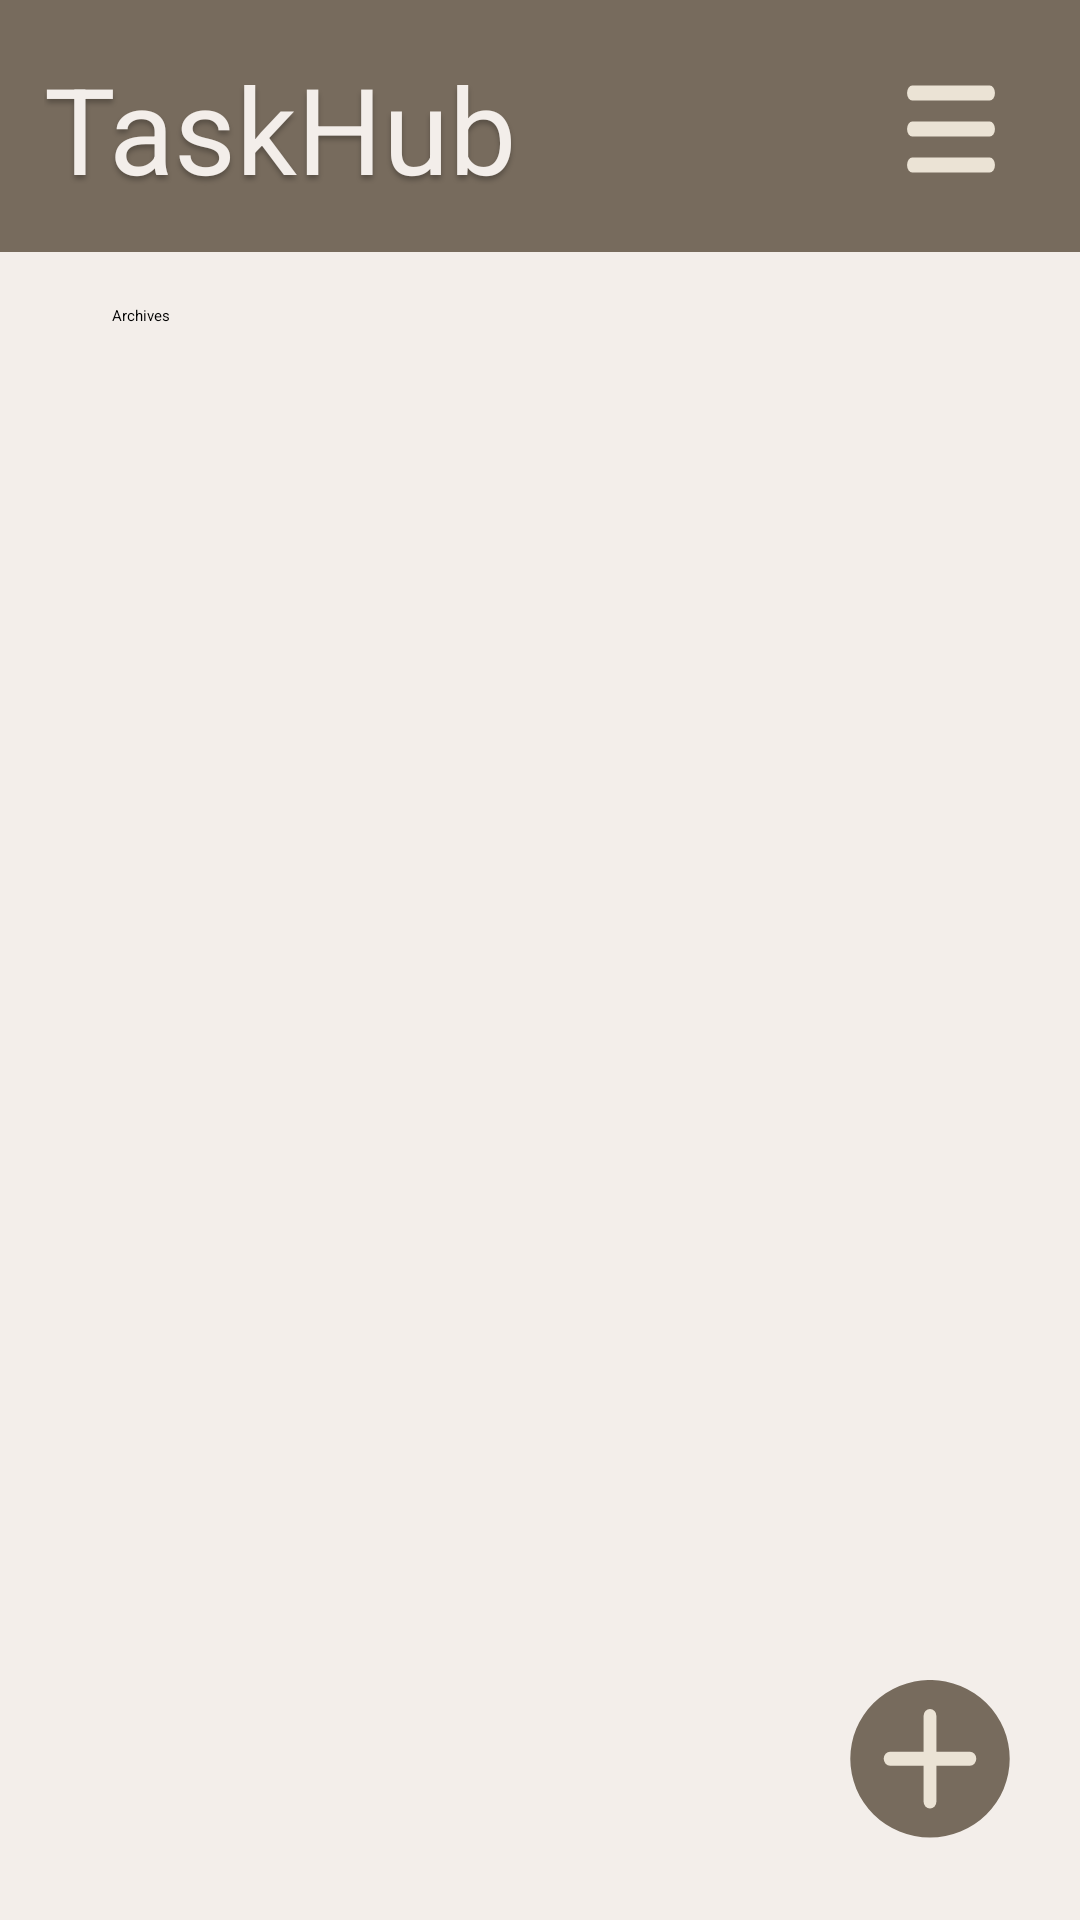

Icons on this 1080px×1920px Android screen, each with its box as (x1, y1, x2, y2):
Open Navigation Menu: (907, 85, 995, 173)
Open new task: (850, 1680, 1010, 1838)
